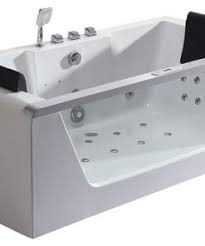bathub: (1, 1, 205, 240)
